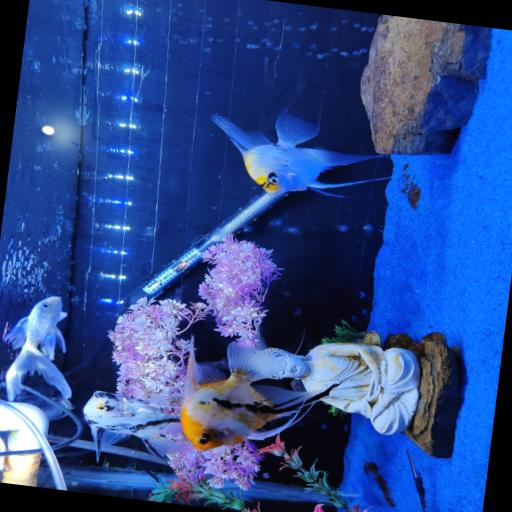Fish: (181, 338, 324, 450), (212, 113, 389, 197), (84, 392, 190, 460), (4, 297, 71, 401)
